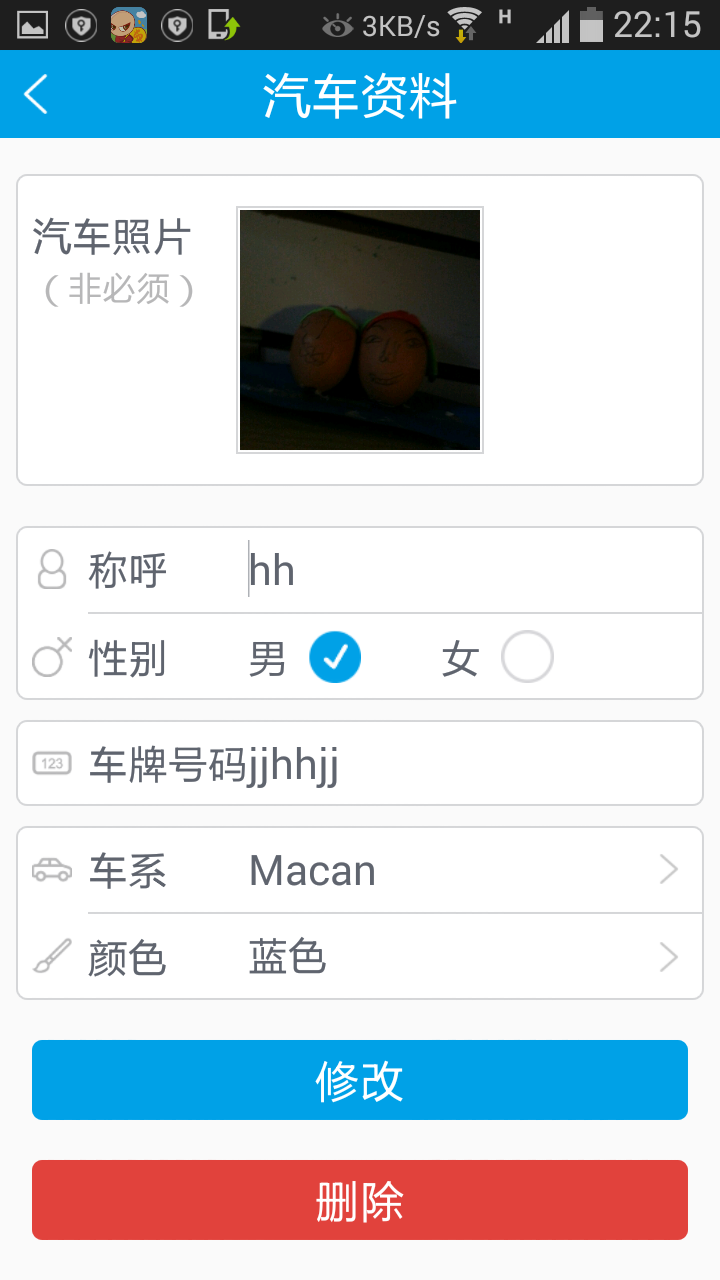button: (20, 1027, 691, 1133), (10, 1153, 712, 1252)
checkbox: (416, 622, 570, 692), (231, 617, 373, 687)
imgview: (225, 199, 491, 460)
